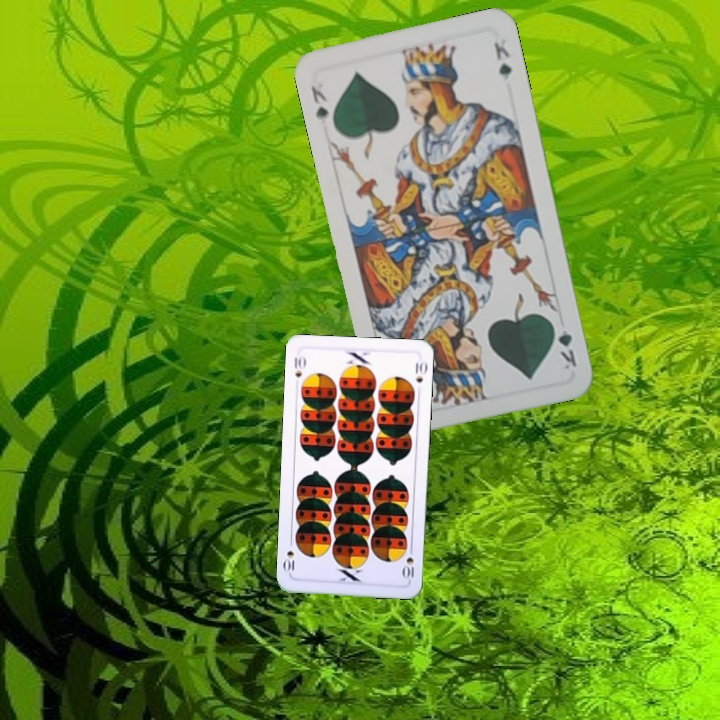GK: (548, 317, 580, 372), (307, 82, 331, 127)
S10: (400, 542, 416, 583), (290, 353, 308, 380)
